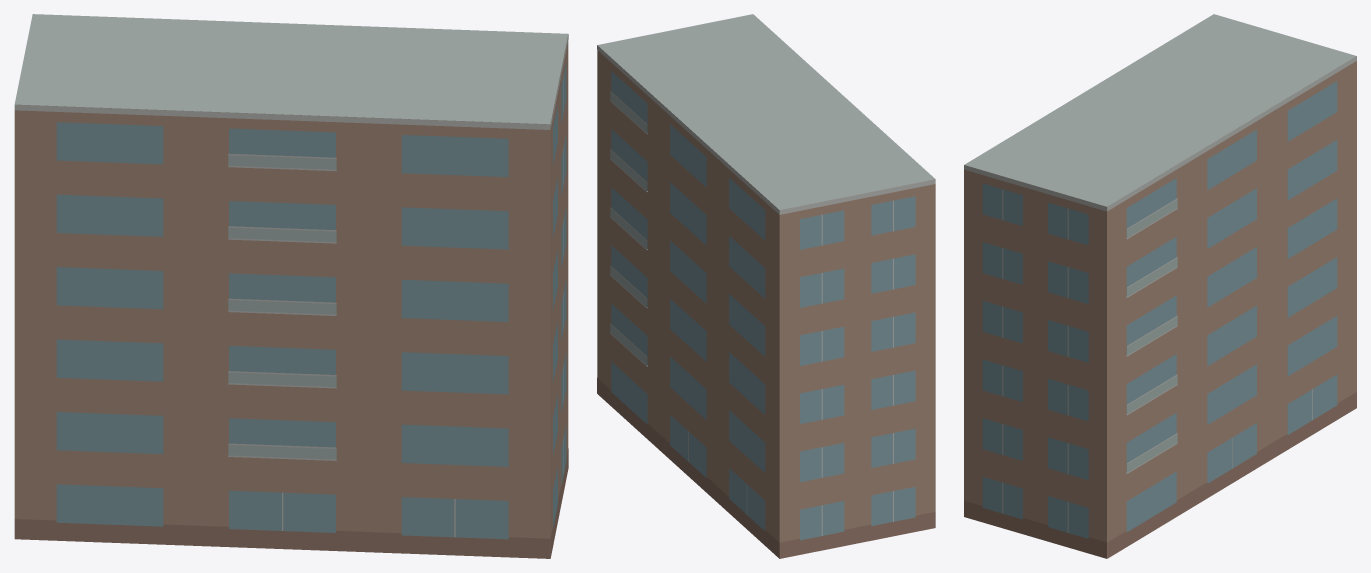
Rendered from survey-upis-32974655.glb.
The picture shows the model from 3 angles, left to right: view 1: azimuth 30°, elevation 25°; view 2: azimuth 150°, elevation 25°; view 3: azimuth 270°, elevation 25°; orthographic projection. The views are drawn at different scales.
Parts seen in each view (by area): view 1: survey-upis-32974655.tmp; view 2: survey-upis-32974655.tmp; view 3: survey-upis-32974655.tmp.
Part boxes in pixels (bbox=[...]): survey-upis-32974655.tmp: bbox=[14, 14, 568, 558]; survey-upis-32974655.tmp: bbox=[597, 14, 935, 558]; survey-upis-32974655.tmp: bbox=[964, 14, 1356, 558].
Size of the model in its own units: 21.51 by 18.3 by 18.51.
